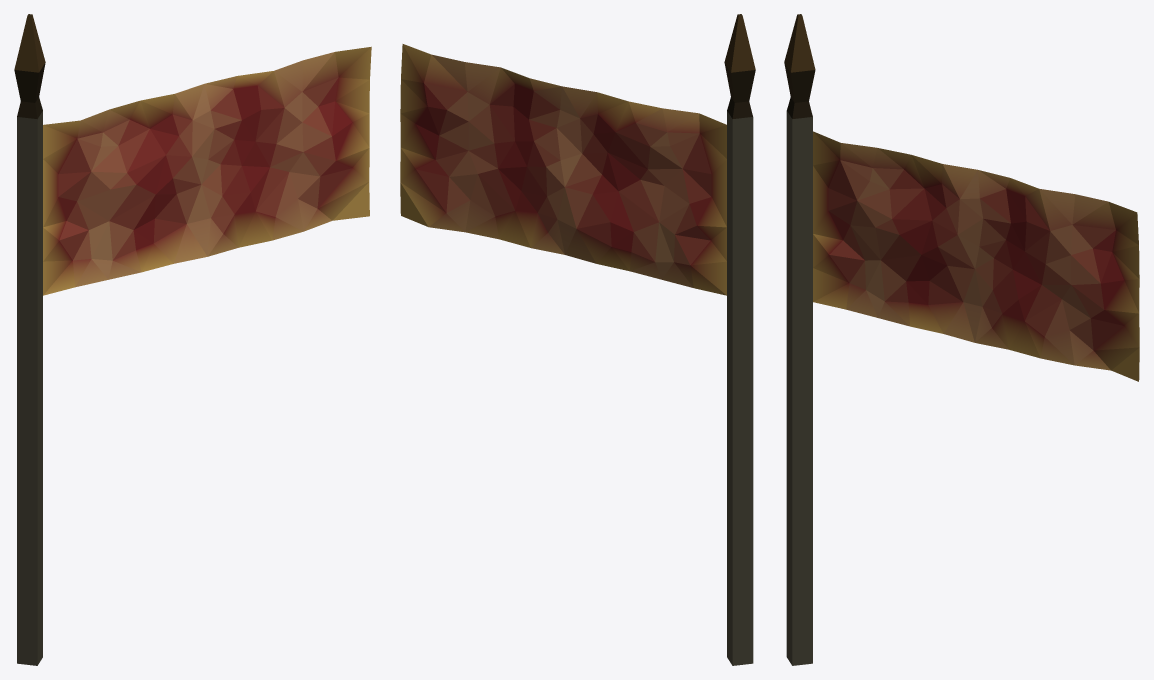
Rendered from Prop_FlagSmallA.fbx.
3 views of the same model, side by side, from view 1: azimuth 30°, elevation 25°; view 2: azimuth 150°, elevation 25°; view 3: azimuth 330°, elevation 25° (orthographic).
Visible parts, largest first — view 1: Prop_FlagSmallA; view 2: Prop_FlagSmallA; view 3: Prop_FlagSmallA.
Boxes of the visible parts, x1,y1,x2,y2 form: Prop_FlagSmallA: (14, 14, 371, 665); Prop_FlagSmallA: (400, 14, 755, 665); Prop_FlagSmallA: (784, 14, 1139, 665).
Size of the model in its own units: 136 by 236 by 11.99.
